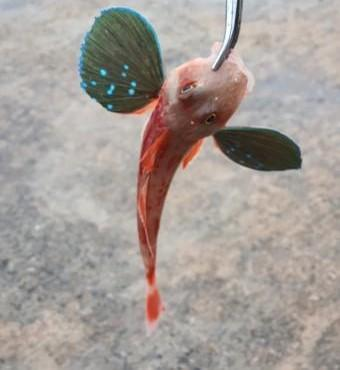fish: (79, 7, 301, 334)
